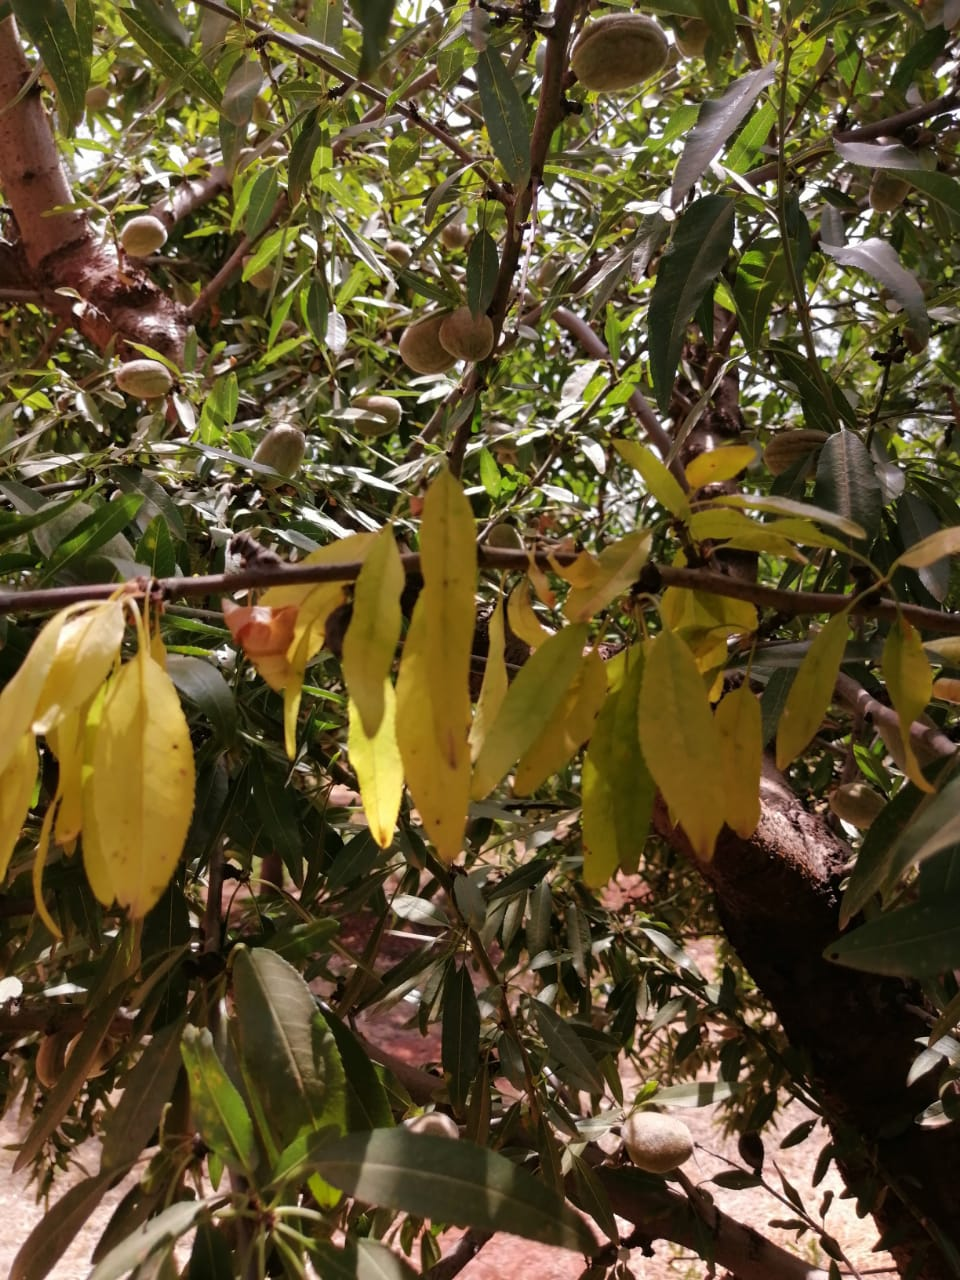coryneum: (513, 656, 796, 980), (292, 783, 436, 1218), (286, 437, 472, 688), (572, 317, 710, 653), (410, 513, 575, 719), (1, 940, 257, 1034), (445, 949, 571, 1018)
